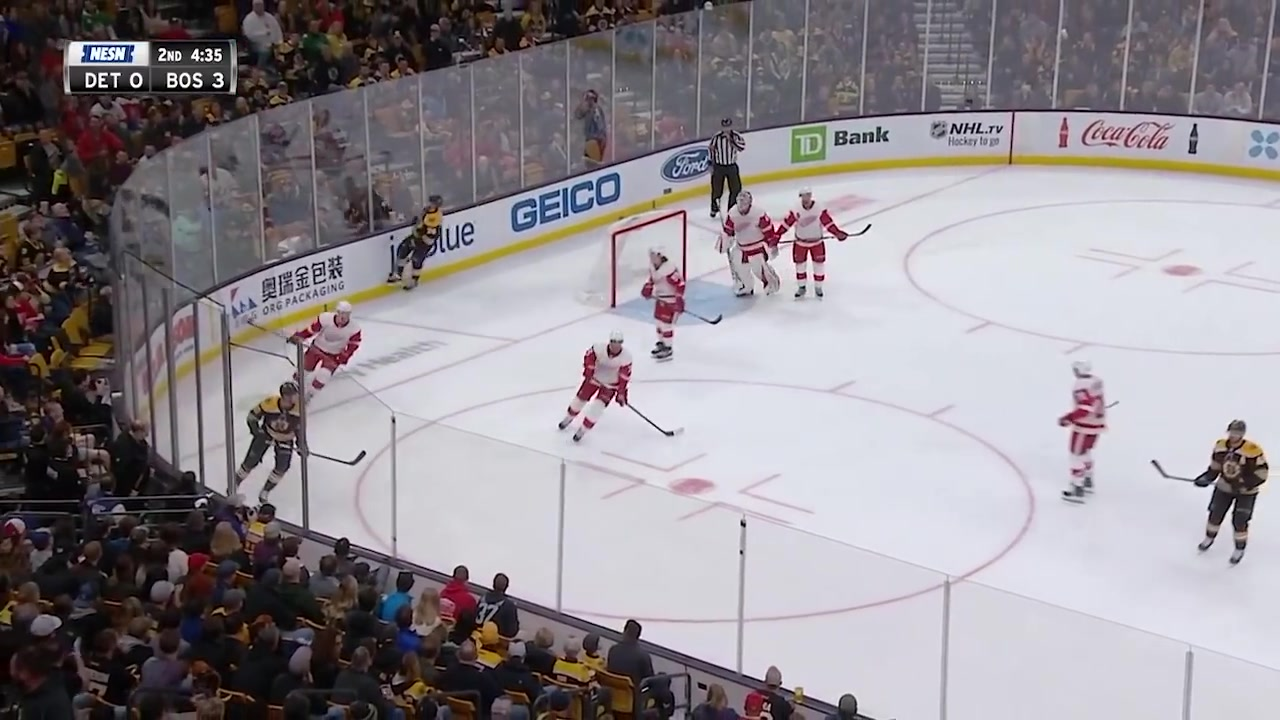Geico: (499, 170, 625, 236)
